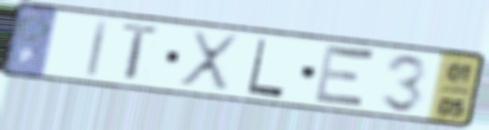3: (381, 53, 432, 115)
E: (309, 41, 379, 113)
I: (83, 17, 112, 80)
L: (244, 36, 287, 100)
T: (118, 20, 164, 84)
X: (175, 28, 242, 95)
